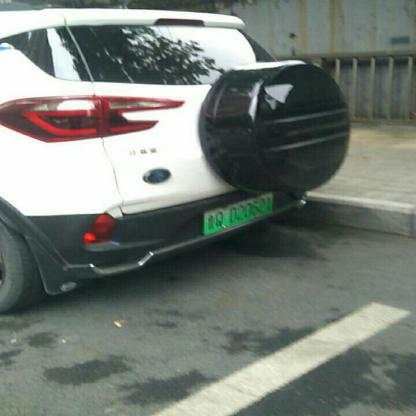lp: (204, 192, 272, 235)
